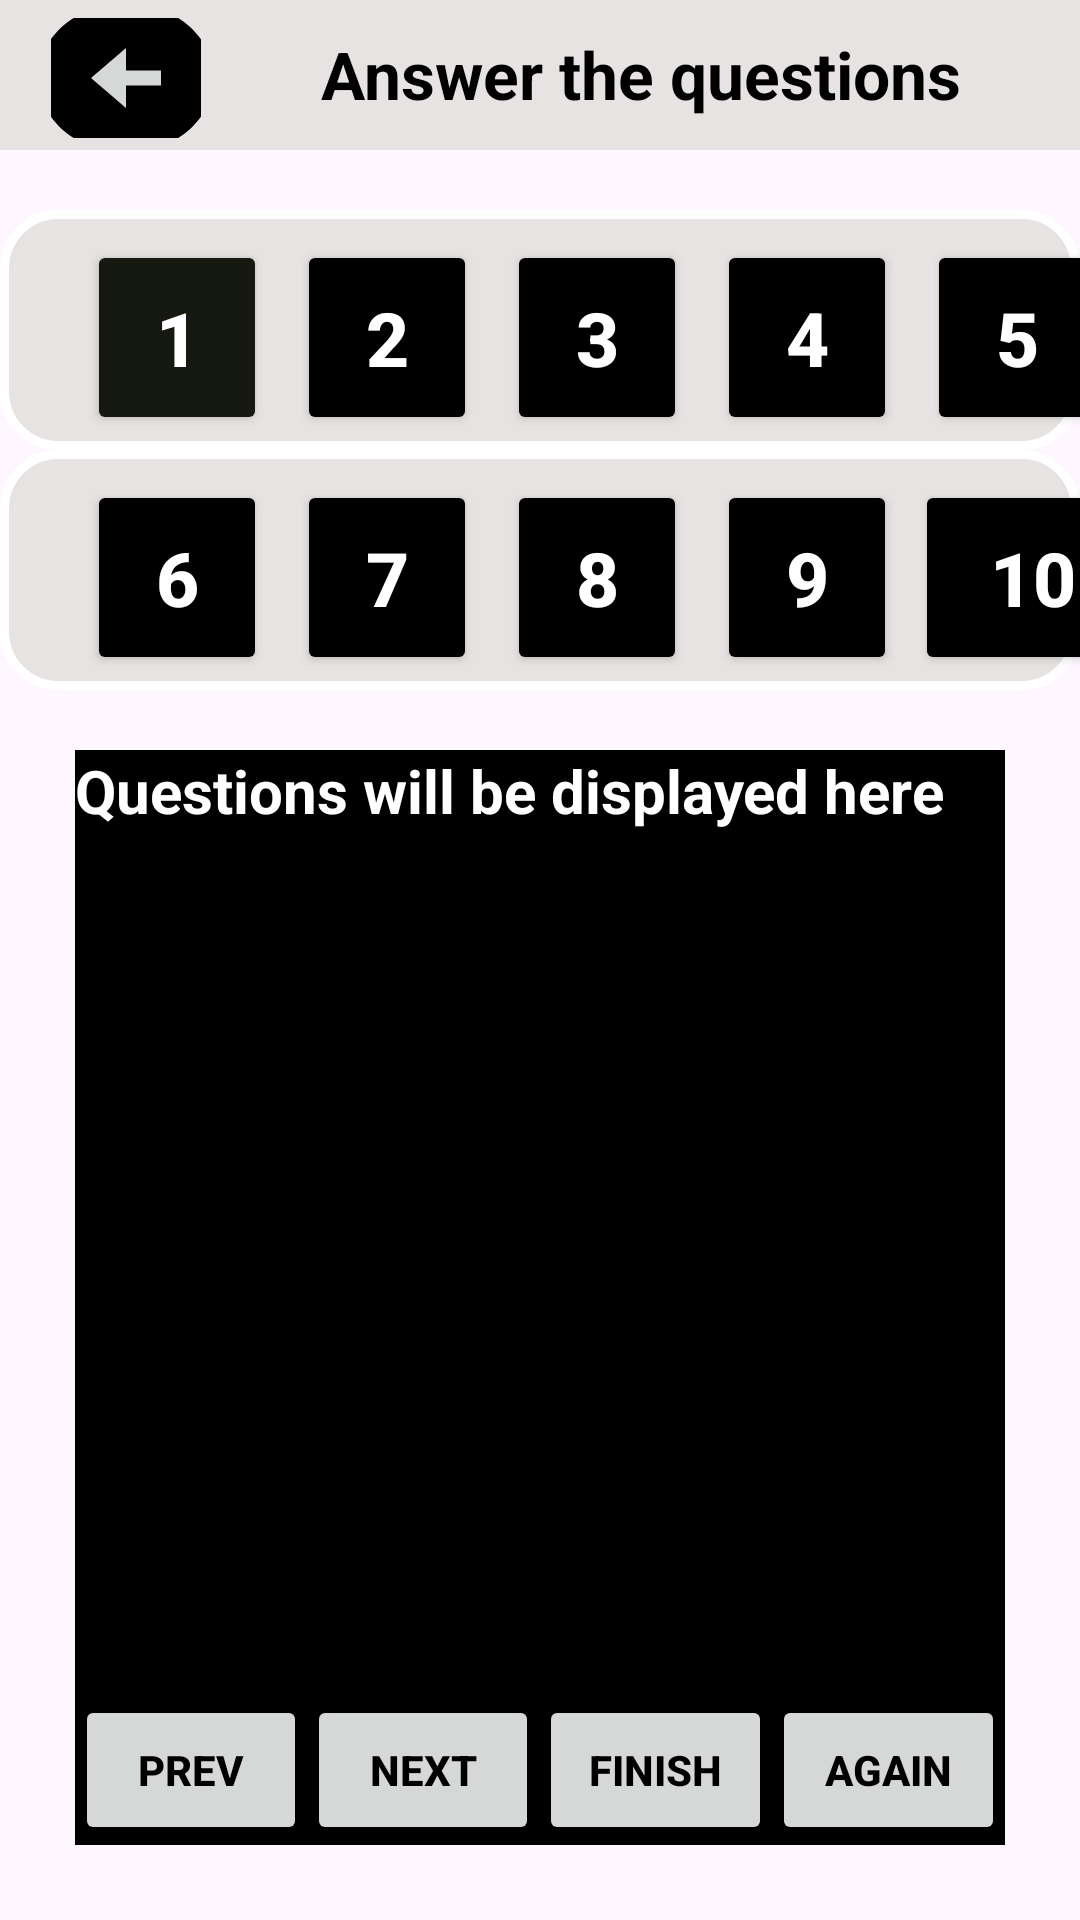

Icons on this 1080x1920 Android screen, each with its box as (x1, y1, x2, y2):
arrow circle left: (51, 18, 201, 138)
